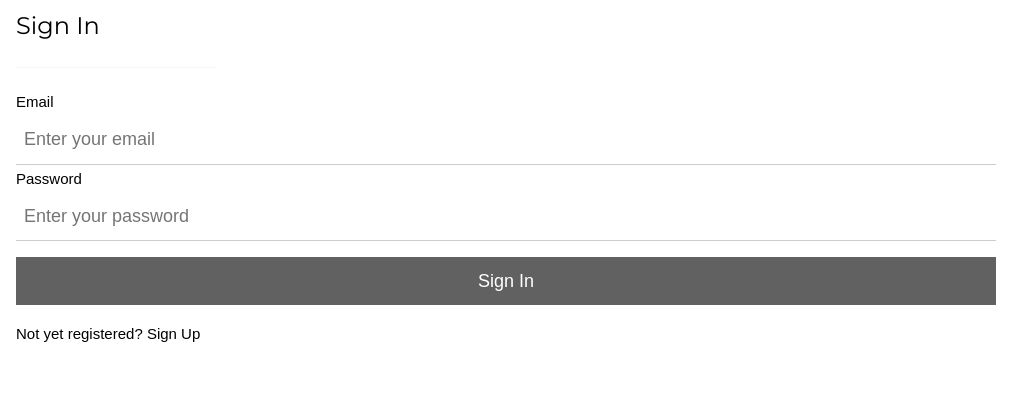
Signin › should show generic error when signIn throws an exception
Type "test@example.com" into the field labelled "Email".
click(506, 140); type("test@example.com")  # box [16,115,996,165]
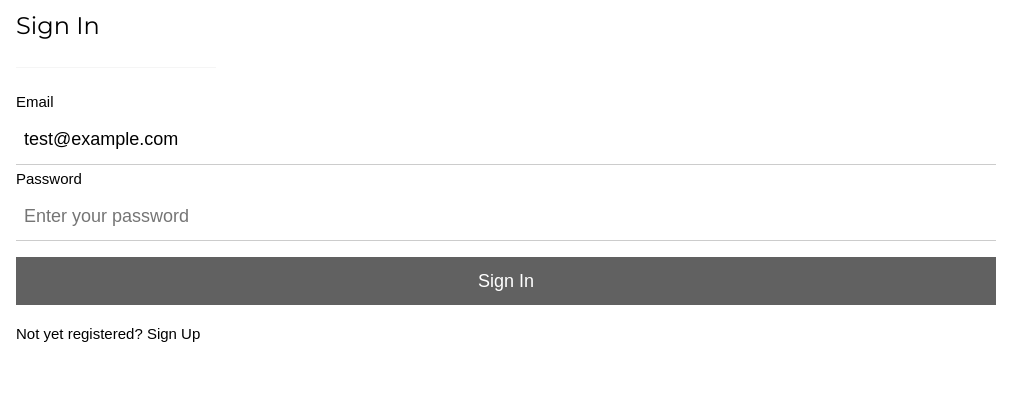
Type "password123" into the password field labelled "Password".
click(506, 216); type("password123")  # box [16,192,996,241]
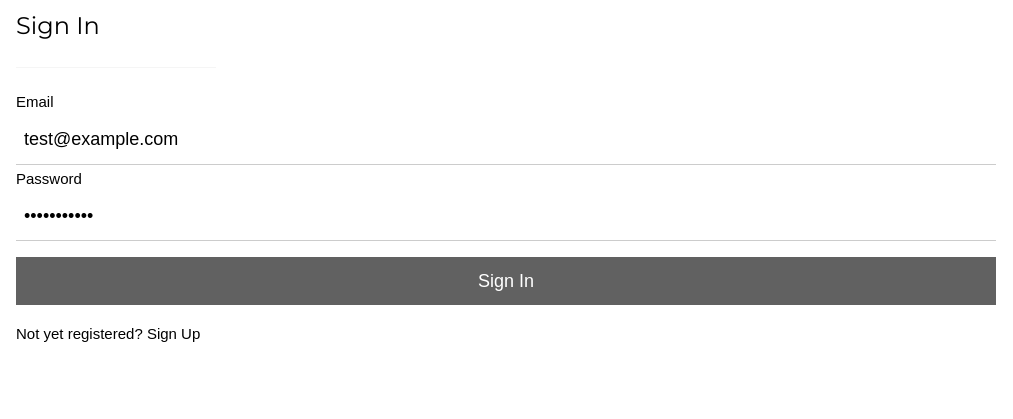
Click the button "Sign In".
click(506, 281)  # box [16,257,996,305]
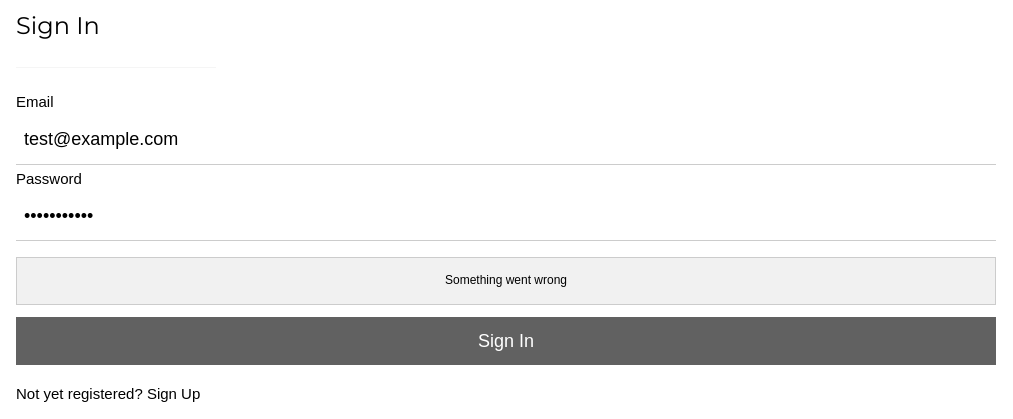
Expected: the message reads "Something went wrong", [445,273,567,287]
